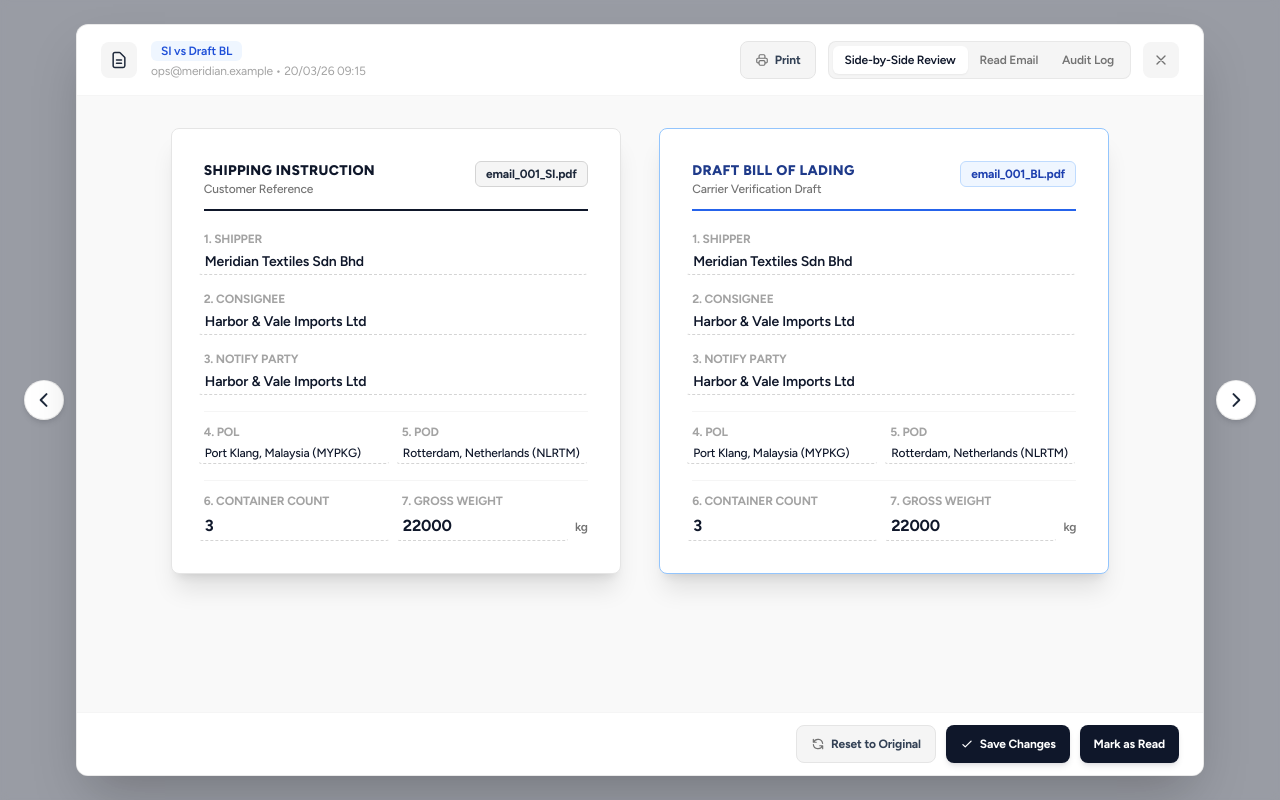
Test case: ReviewModal email pane › shows the email with its attachments, linking the ones in Drive
Click the button "Read Email".
click(1009, 60)  # box top-left (968, 46), bottom-right (1050, 74)
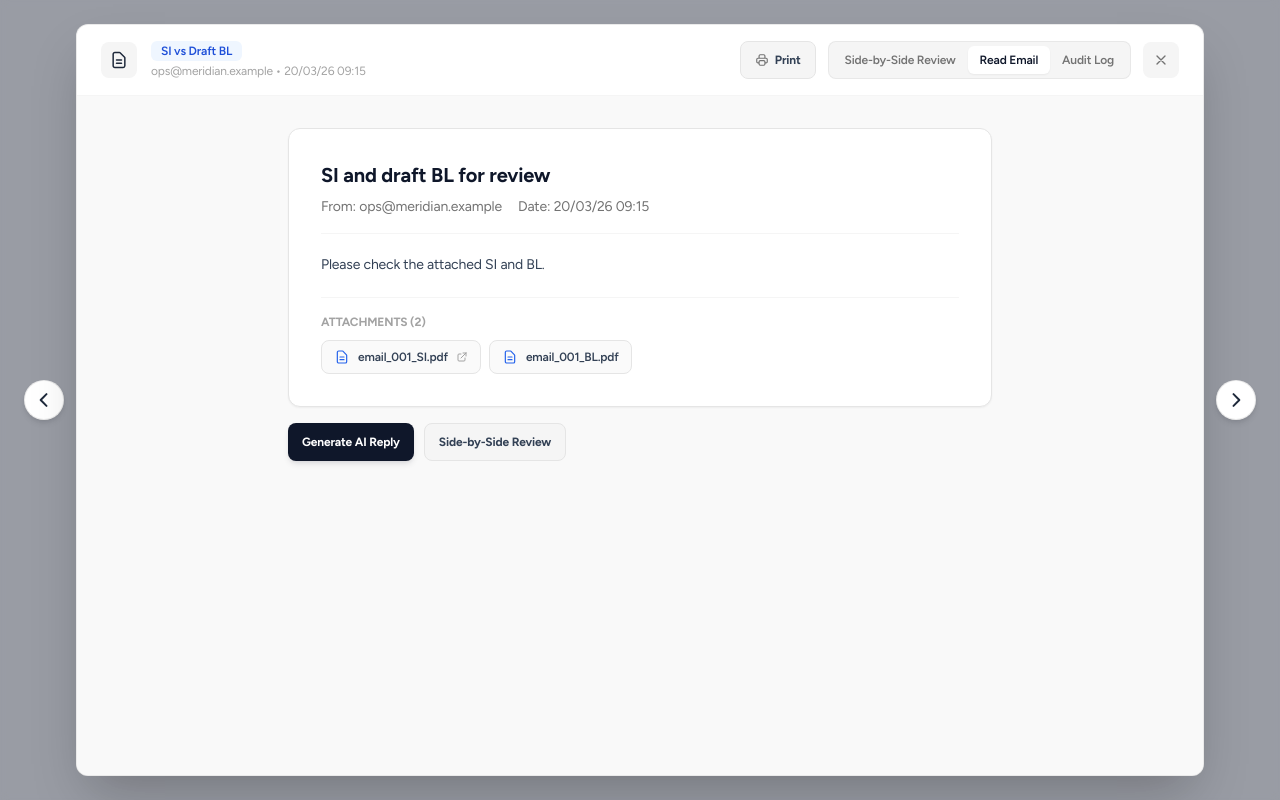
Expected: the heading "SI and draft BL for review" is shown, top-left (321, 163), bottom-right (550, 187)
Expected: the text "Please check the attached SI and BL." is shown, top-left (321, 256), bottom-right (545, 273)
Expected: the text "Attachments (2)" is shown, top-left (321, 315), bottom-right (426, 329)
